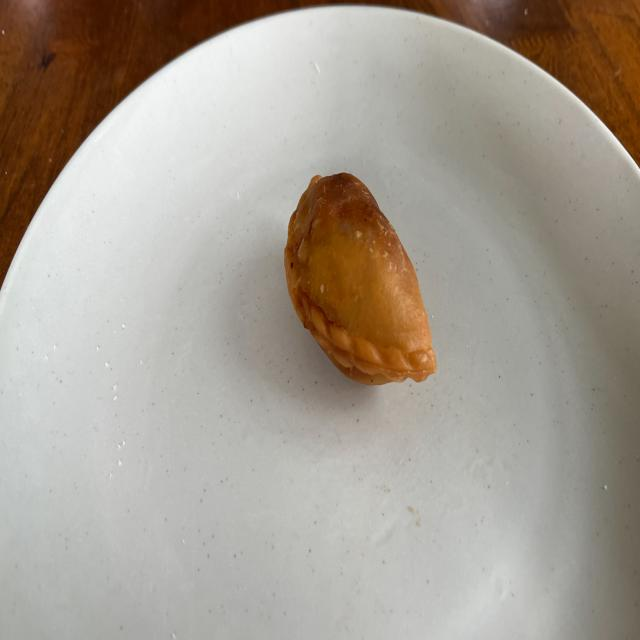karipap: (285, 173, 436, 384)
